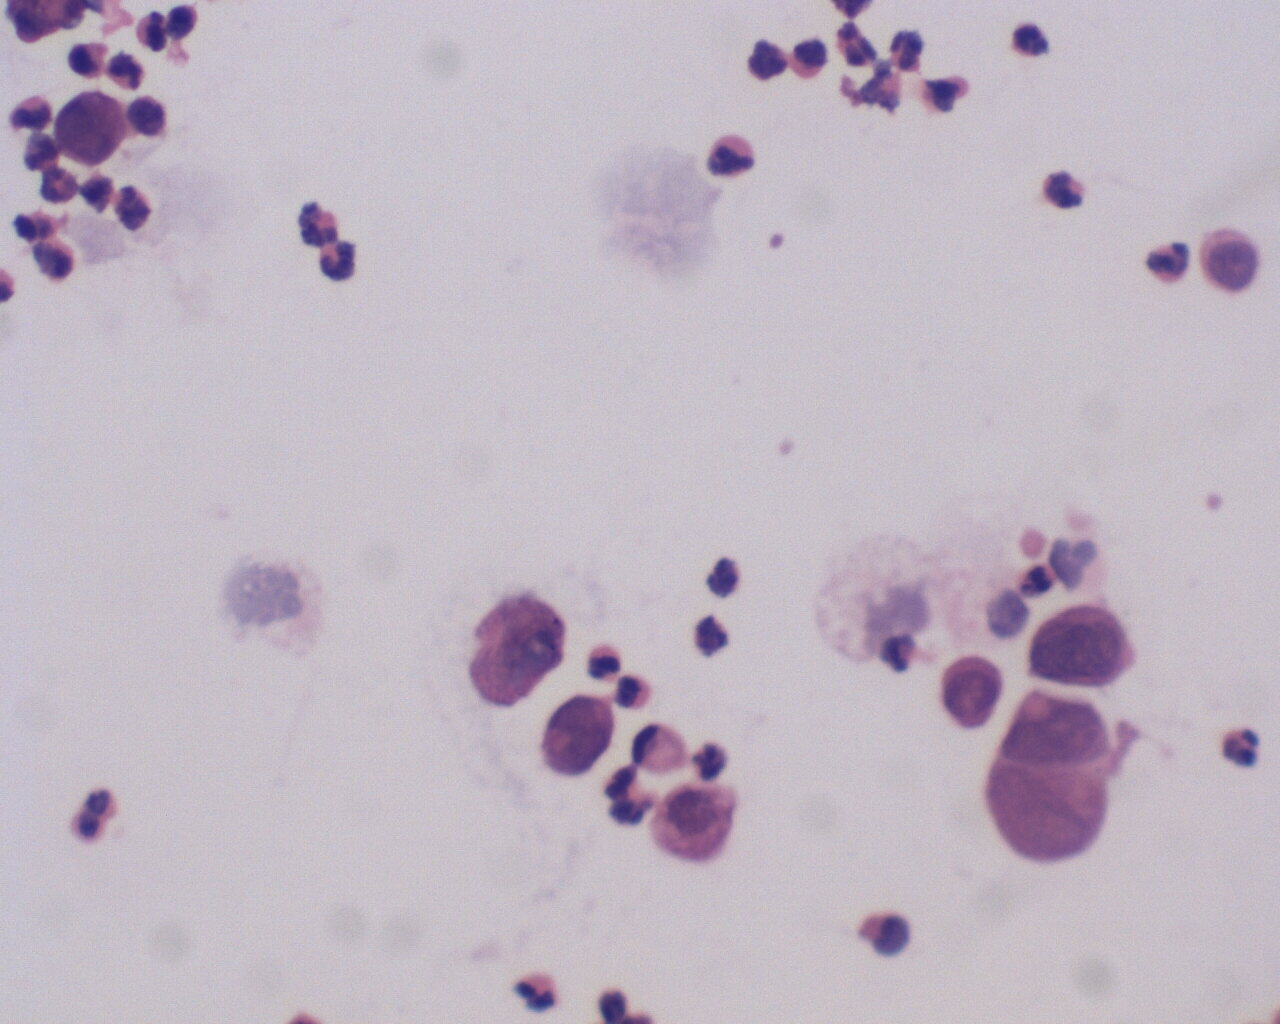ab: (978, 688, 1116, 865), (460, 589, 573, 711), (1029, 595, 1144, 696), (538, 692, 614, 778), (52, 88, 127, 168), (940, 654, 1007, 730)
neutro: (1140, 232, 1196, 288), (1040, 166, 1095, 220), (704, 127, 757, 182), (308, 241, 364, 285), (1219, 724, 1265, 774)
